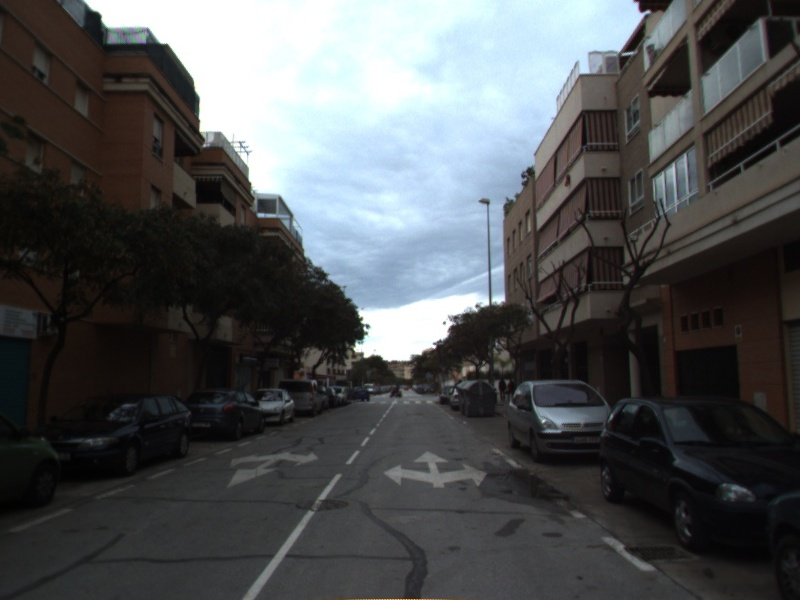STRAIGHT_LEFT_RIGHT: (382, 449, 489, 490)
